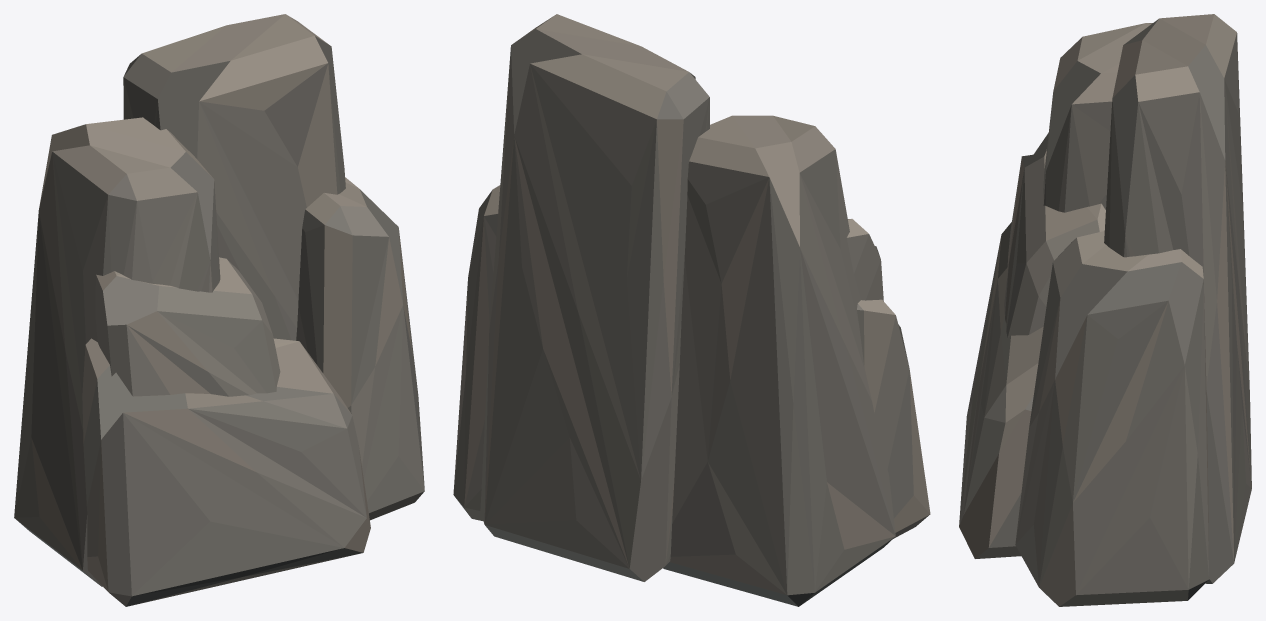
File: verdant-cliff-buttress.glb
3 renders of one model, left to right at view 1: azimuth 30°, elevation 25°; view 2: azimuth 150°, elevation 25°; view 3: azimuth 270°, elevation 25°, orthographic. The views are drawn at different scales.
Parts seen in each view (by area): view 1: verdant-cliff-buttress; view 2: verdant-cliff-buttress; view 3: verdant-cliff-buttress.
Part boxes in pixels (x1,y1,x2,y2): verdant-cliff-buttress: [14, 14, 424, 606]; verdant-cliff-buttress: [453, 14, 930, 606]; verdant-cliff-buttress: [959, 14, 1251, 606].
Bounding box in the file's own units: 3.07 × 3.83 × 2.02.
Materials: 1 (1 with a texture image).
